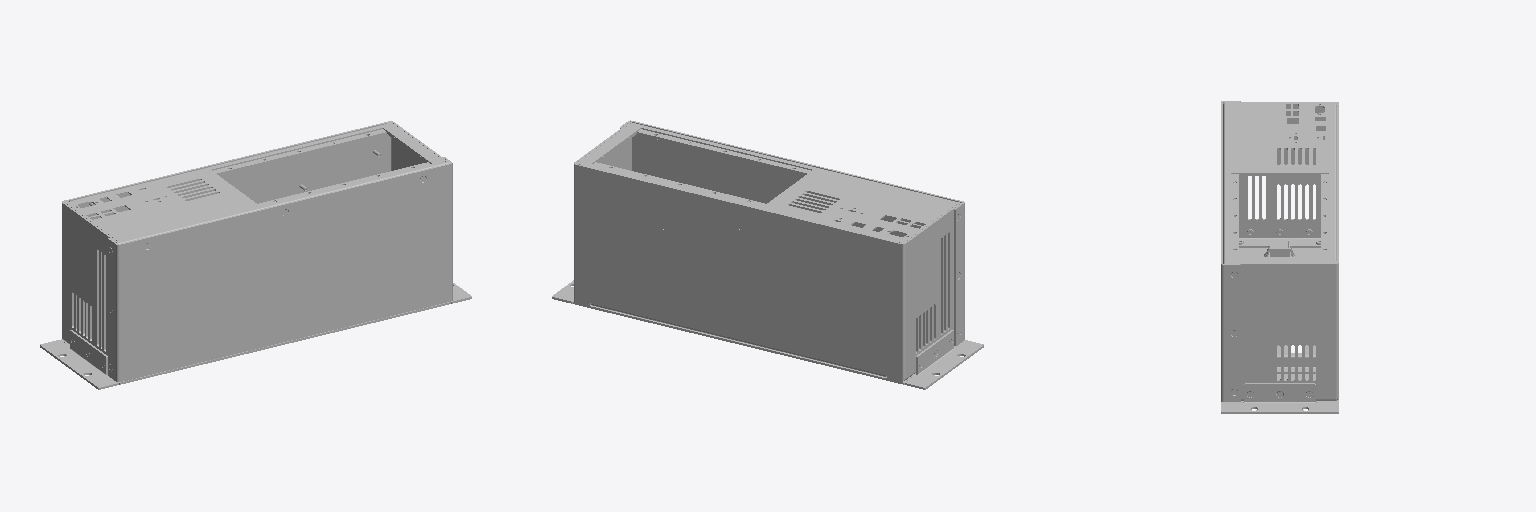
Rendered from enclosure.obj.
3 renders of one model, left to right at view 1: azimuth 30°, elevation 25°; view 2: azimuth 150°, elevation 25°; view 3: azimuth 270°, elevation 25°, orthographic.
Visible parts, largest first — view 1: v3d.csg; view 2: v3d.csg; view 3: v3d.csg.
Part boxes in pixels (x1,y1,x2,y2): v3d.csg: (40,121,471,389); v3d.csg: (552,120,983,389); v3d.csg: (1221,101,1338,413).
Size of the model in its own units: 19 by 7.11 by 5.22.